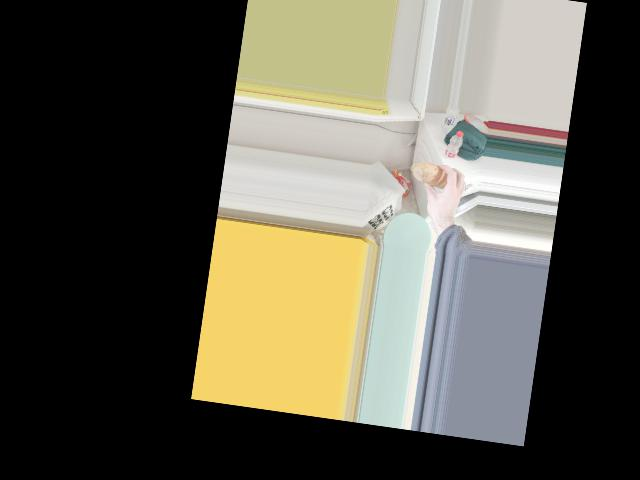sweet_potato: (417, 159, 453, 195)
